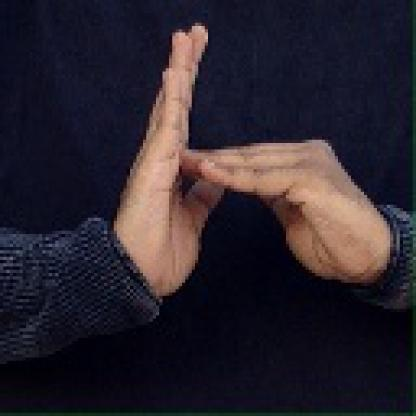Z: (95, 26, 384, 288)
